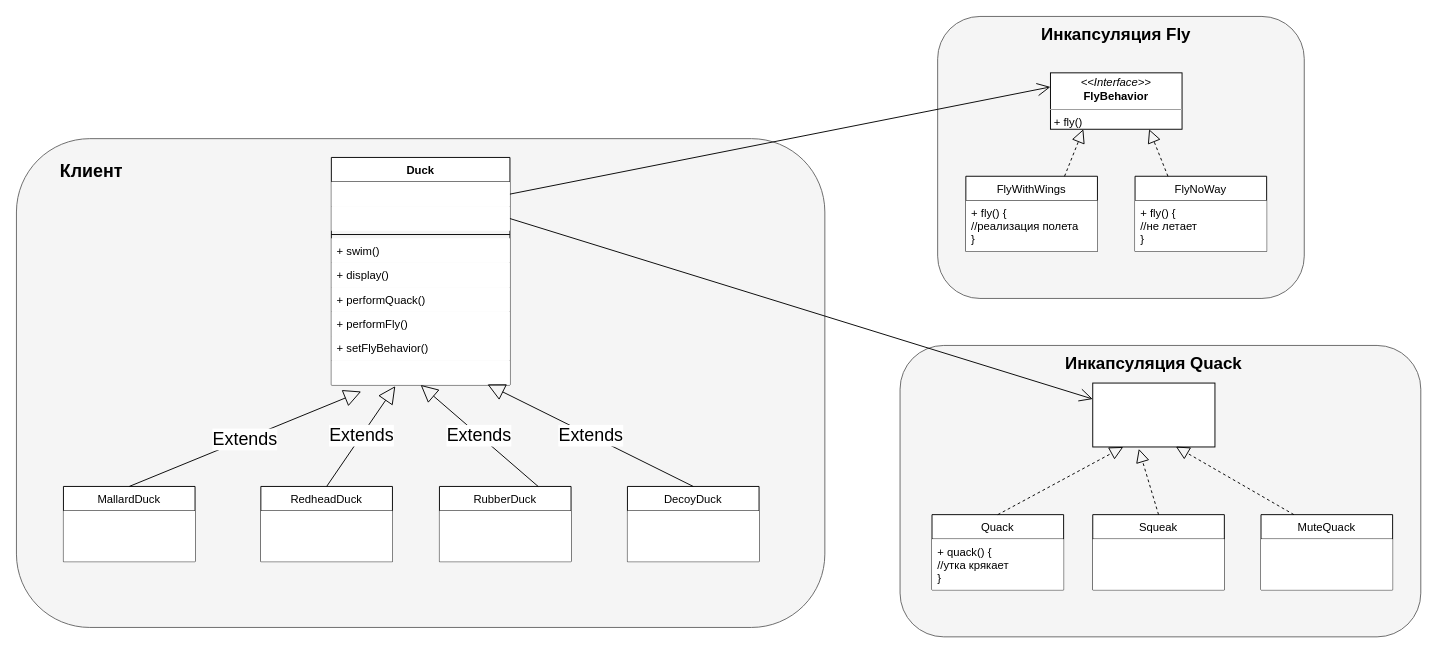
Image size: 1437x653. Some labels were removed from this diagram. Each missing label, with the centre of its shape:
"+ display() { //для DecoyDuck }" goes at pixel 693 535.
"+ display() { //для MallardDuck }" goes at pixel 129 535.
"+ display() { //для RedheadDuck }" goes at pixel 326 535.
"+ display() { //для RubberDuck }" goes at pixel 505 535.
"+ FlyBehavior flyBehavior" goes at pixel 420 193.
"+ quack() { //не издает звуков }" goes at pixel 1326 564.
"+ quack() { //утка пищит }" goes at pixel 1158 564.
"+ QuackBehavior quackBehavior" goes at pixel 420 218.
"+ setQuackBehavior()" goes at pixel 420 372.
"<<Interface>> QuackBehavior + quack()" goes at pixel 1153 414.
